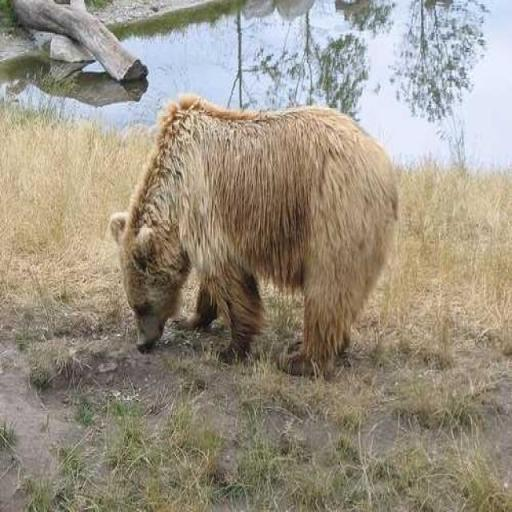Bear: (108, 92, 400, 380)
